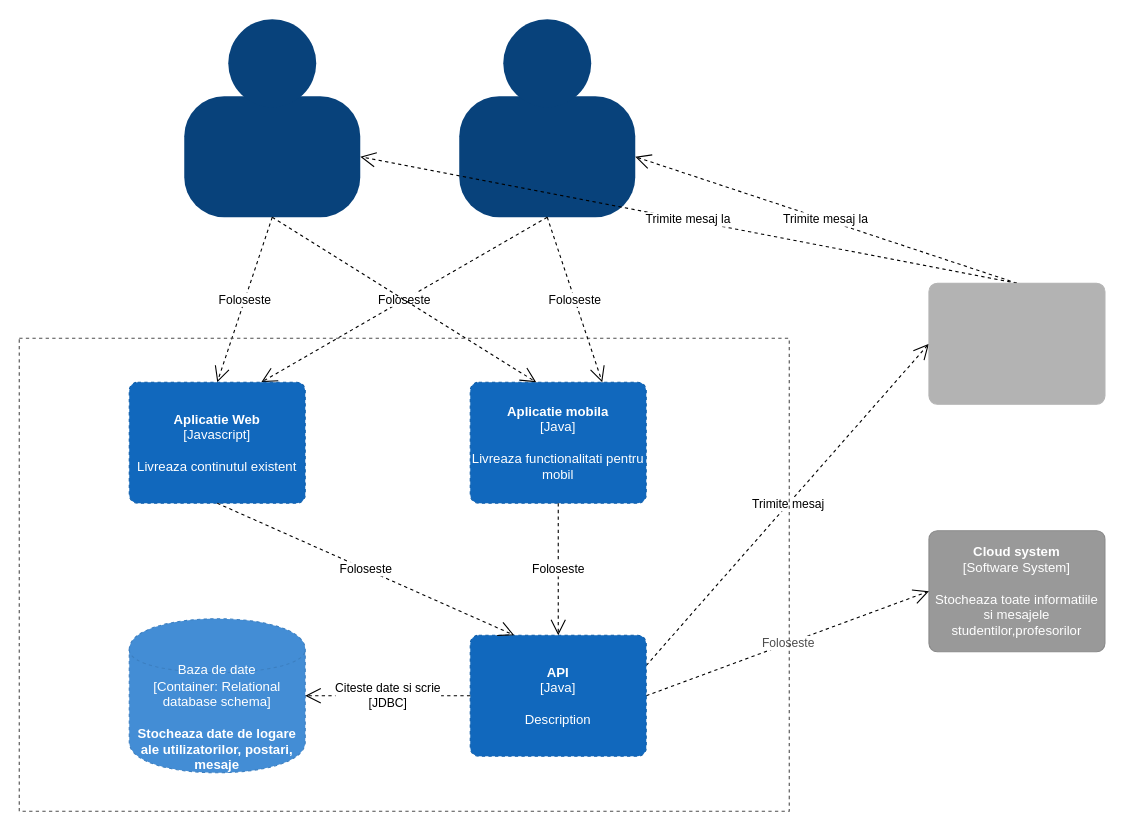
The diagram is 1124 pixels wide and 831 high, and some of its shapes have lost their labels. Each missing label, with the centre of its shape:
Profesor [Person] Cadru didactic la FII: the point at 546,156
Serviciu E-mail [Software System] The students webmail: the point at 1016,343
Student [Person] Student FII: the point at 271,156
